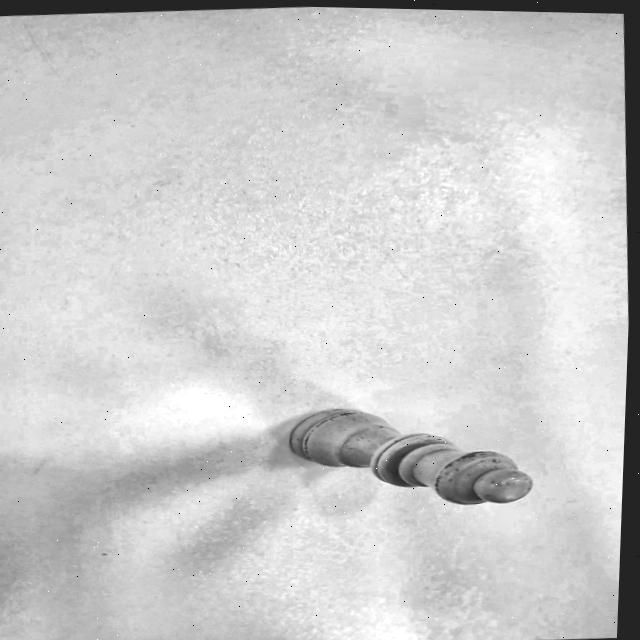white-queen: (248, 384, 566, 541)
